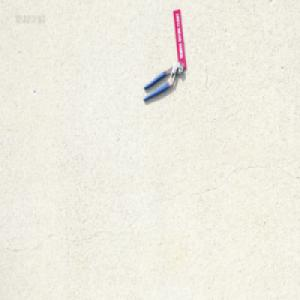Label: (172, 8, 186, 69)
Pliers: (142, 59, 184, 102)
